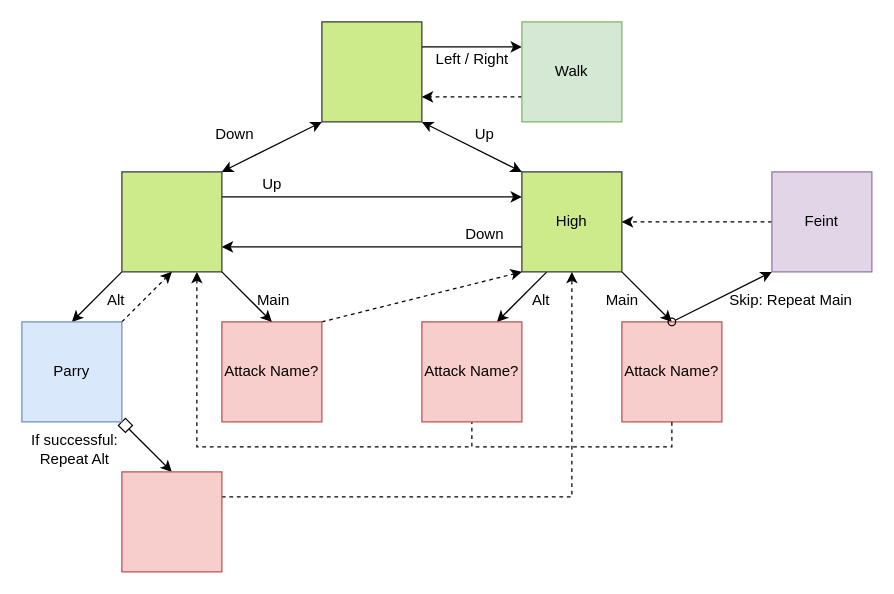
This 894x594 diagram has some shape labels left out. Each missing label, with the centre of its shape:
Lax: the point at 371,71
Low: the point at 171,221
Riposte: the point at 171,521
